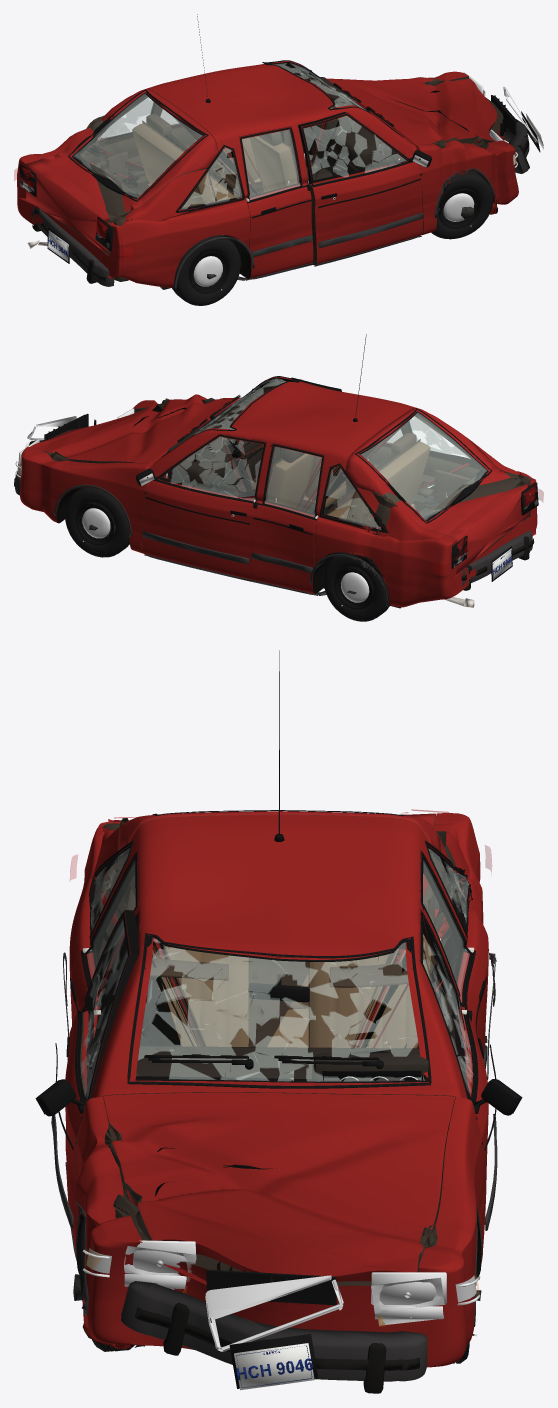
Rendered from hatchback85_front_corner_R_d1_lod1.glb.
3 views of the same model, one above another, from view 1: azimuth 30°, elevation 25°; view 2: azimuth 150°, elevation 25°; view 3: azimuth 270°, elevation 25° (orthographic). The views are drawn at different scales.
Parts seen in each view (by area): view 1: Body, Interior, Hatch, Door_FR, Glass_Hatch, Hood, Door_RR, Wheel_RR_mesh, Glass, Glass_RR, Wheel_FR_mesh, Glass_FR (+9 smaller); view 2: Body, Interior, Hatch, Door_FL, Glass_Hatch, Hood, Door_RL, Wheel_FL_mesh, Glass, Wheel_RL_mesh, Glass_FL, Glass_RL (+8 smaller); view 3: Body, Hood, Glass, Interior, Ends, Bumper_F, Door_FR, Trim, Door_FL, Trim_FR, Trim_FL, Door_RL (+7 smaller).
Boxes of the visible parts, bbox=[...] form: Body: bbox=[17, 61, 518, 287]; Interior: bbox=[93, 77, 399, 235]; Hatch: bbox=[26, 88, 218, 254]; Door_FR: bbox=[298, 112, 423, 265]; Glass_Hatch: bbox=[68, 89, 208, 201]; Hood: bbox=[329, 78, 497, 146]; Door_RR: bbox=[239, 126, 313, 278]; Wheel_RR_mesh: bbox=[172, 235, 240, 305]; Glass: bbox=[93, 60, 404, 211]; Glass_RR: bbox=[240, 130, 302, 200]; Wheel_FR_mesh: bbox=[431, 171, 493, 239]; Glass_FR: bbox=[300, 113, 407, 185]; Body: bbox=[20, 377, 537, 607]; Interior: bbox=[167, 406, 469, 552]; Hatch: bbox=[345, 407, 530, 573]; Door_FL: bbox=[142, 434, 266, 579]; Glass_Hatch: bbox=[355, 408, 491, 523]; Hood: bbox=[30, 394, 237, 465]; Door_RL: bbox=[250, 443, 324, 593]; Wheel_FL_mesh: bbox=[65, 487, 129, 557]; Glass: bbox=[162, 376, 469, 532]; Wheel_RL_mesh: bbox=[323, 552, 390, 621]; Glass_FL: bbox=[159, 437, 266, 502]; Glass_RL: bbox=[262, 445, 324, 517]; Body: bbox=[69, 813, 488, 1367]; Hood: bbox=[103, 1092, 455, 1281]; Glass: bbox=[91, 845, 471, 1088]; Interior: bbox=[126, 884, 434, 1080]; Ends: bbox=[83, 1240, 480, 1390]; Bumper_F: bbox=[121, 1281, 427, 1393]; Door_FR: bbox=[65, 910, 139, 1252]; Trim: bbox=[63, 650, 496, 1326]; Door_FL: bbox=[419, 909, 488, 1251]; Trim_FR: bbox=[35, 911, 130, 1261]; Trim_FL: bbox=[420, 910, 522, 1270]; Door_RL: bbox=[420, 850, 486, 1051].
Bounding box in the file's own units: 4.34 × 2.14 × 1.93.
Materials: 33 (5 with a texture image).
